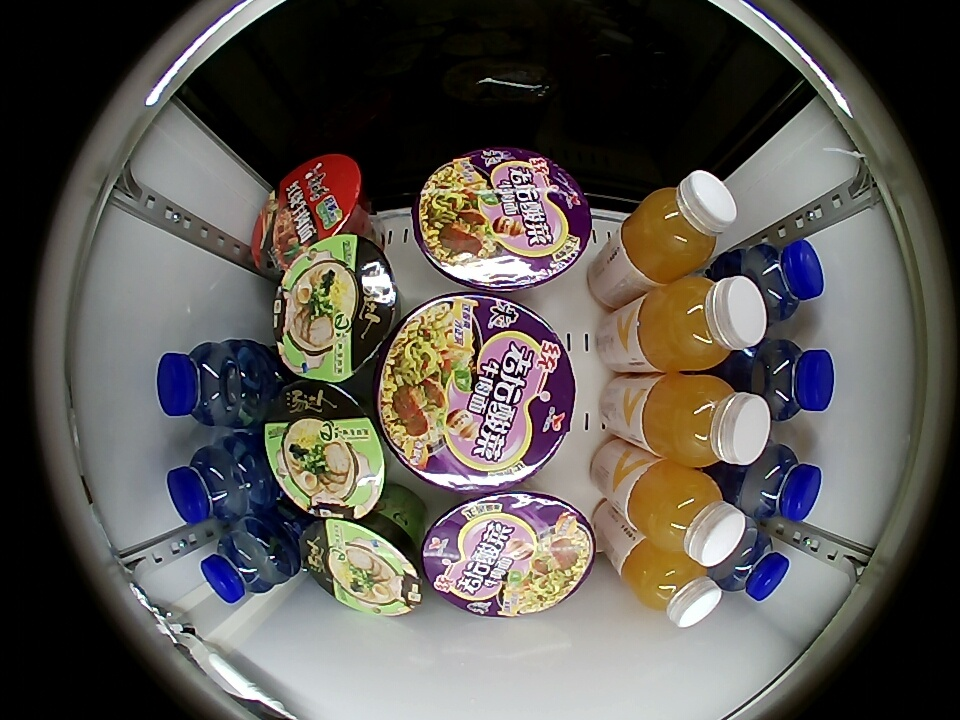hongshaoniurou: (252, 154, 363, 275)
laotansuancai: (376, 293, 576, 492), (414, 147, 592, 291), (420, 491, 596, 619)
maidong: (157, 340, 251, 427), (165, 440, 260, 525), (735, 239, 824, 320), (734, 443, 823, 522), (200, 524, 287, 604), (750, 340, 835, 420), (714, 524, 790, 601)
tangdaren: (272, 232, 396, 383), (262, 381, 387, 518), (299, 512, 425, 617)
weic: (621, 170, 738, 282), (638, 275, 768, 372), (626, 462, 746, 567), (643, 373, 772, 467), (621, 538, 721, 627)
